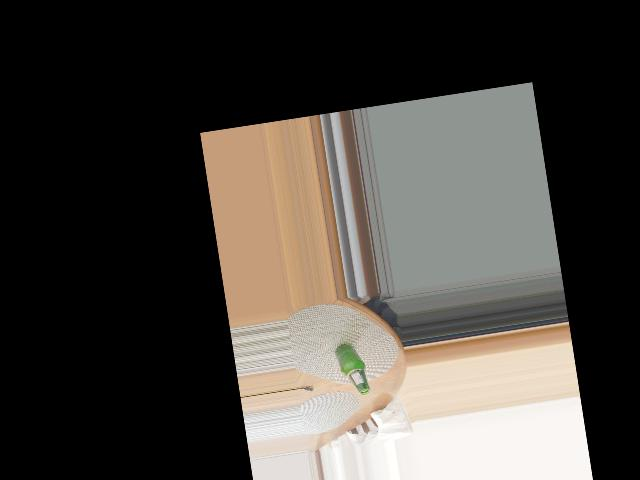beer: (334, 341, 369, 397)
